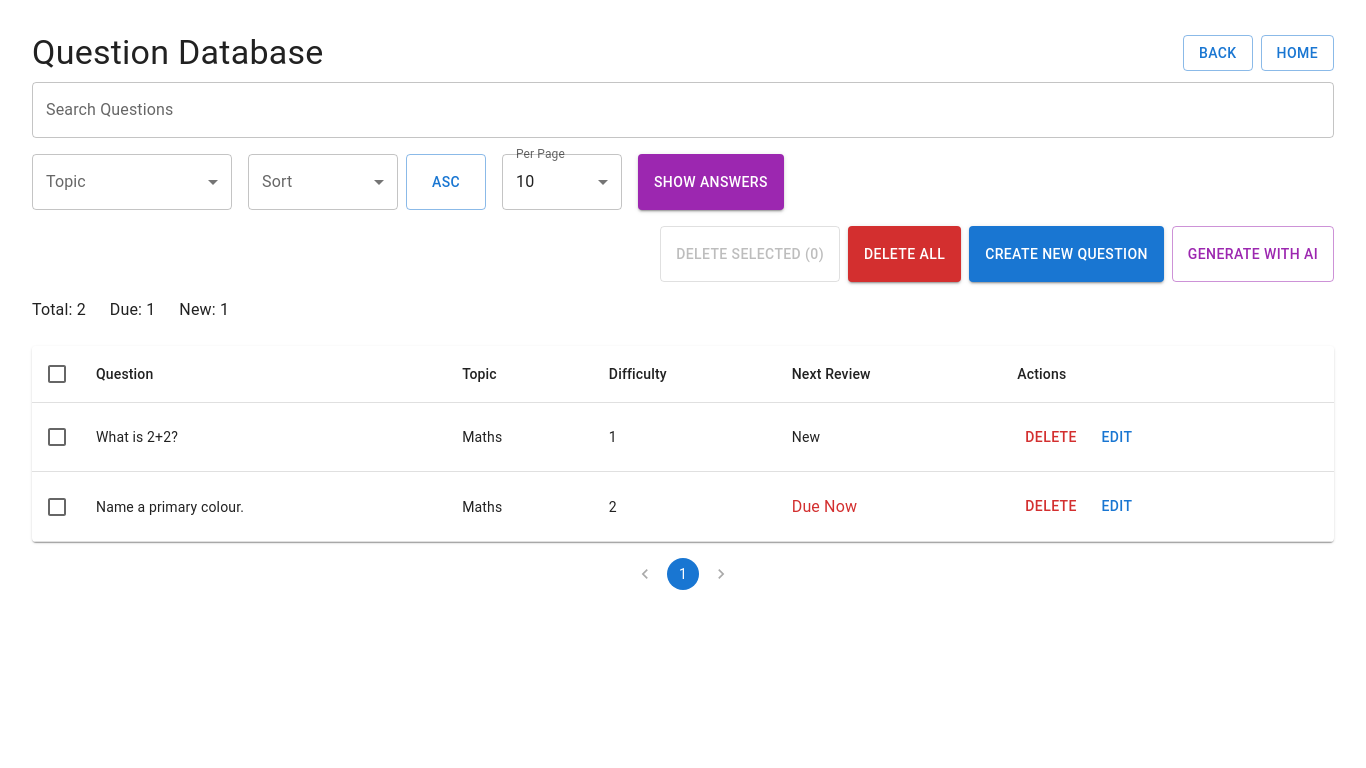
Test case: Questions page › opens create drawer when Create New Question is clicked
Expected: the text "What is 2+2?" is shown, [96, 429, 178, 445]
Step 1. Click the button "Create New Question" → (1066, 254), box [969, 226, 1164, 282]
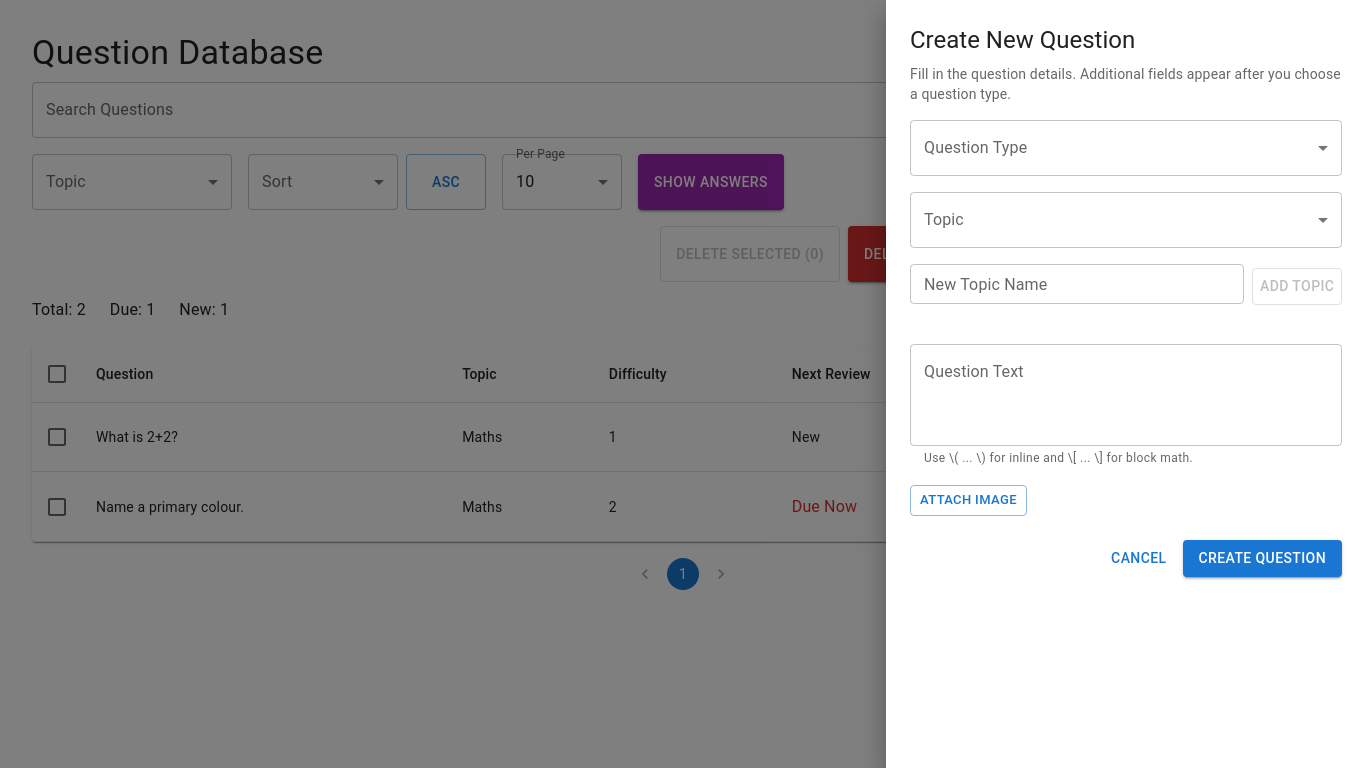
Expected: the text "Fill in the question details" is shown, [910, 66, 1341, 102]
